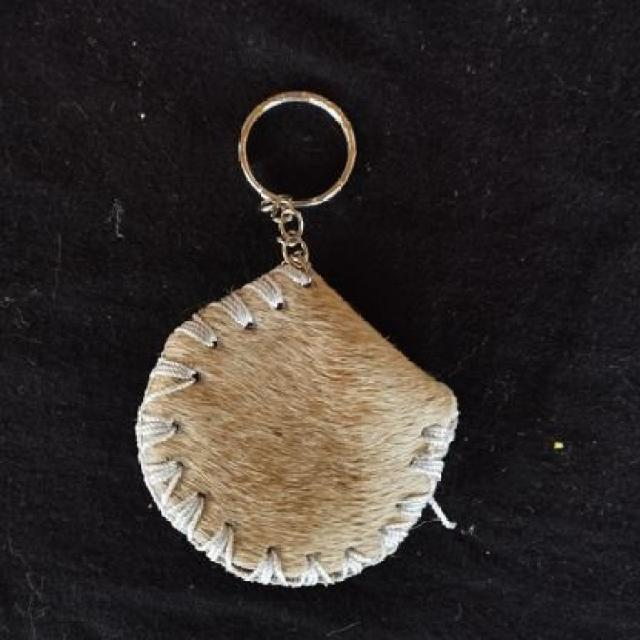Llavero: (133, 253, 461, 589)
